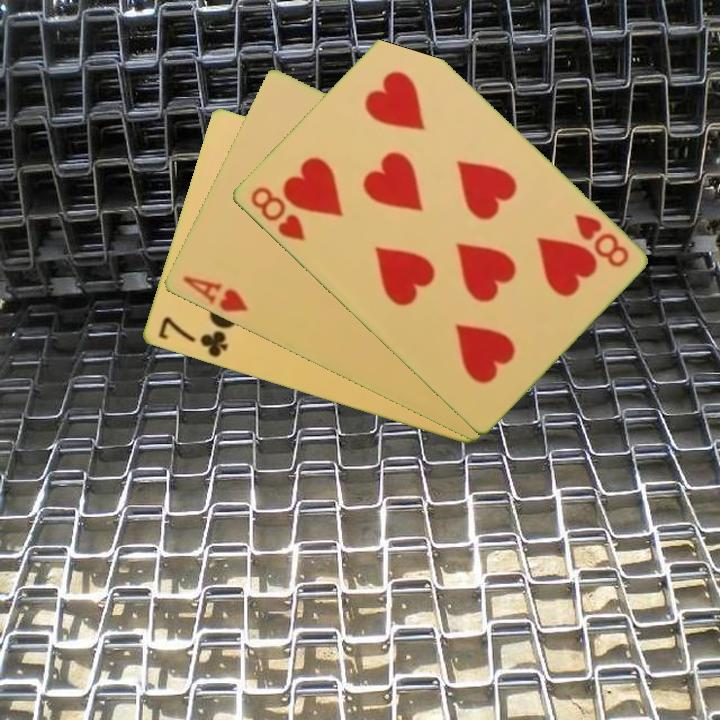7c: (154, 313, 231, 361)
8h: (569, 210, 632, 271), (246, 183, 308, 244)
Ah: (178, 272, 250, 316)
